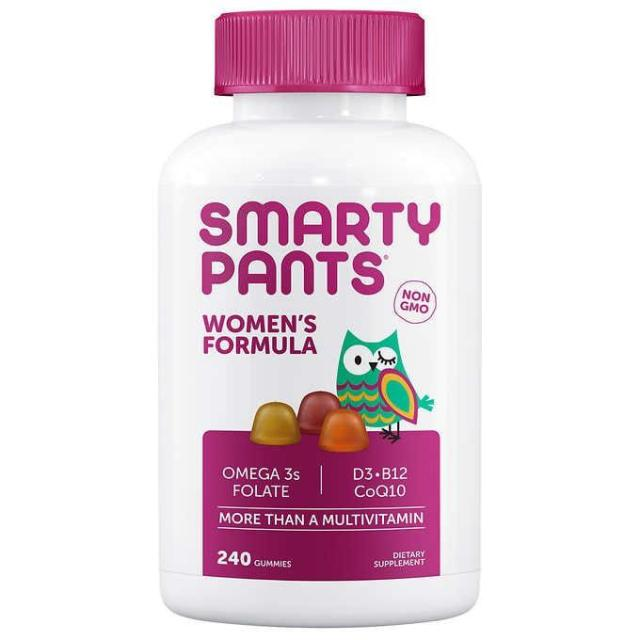food-supliment: (177, 145, 469, 602)
